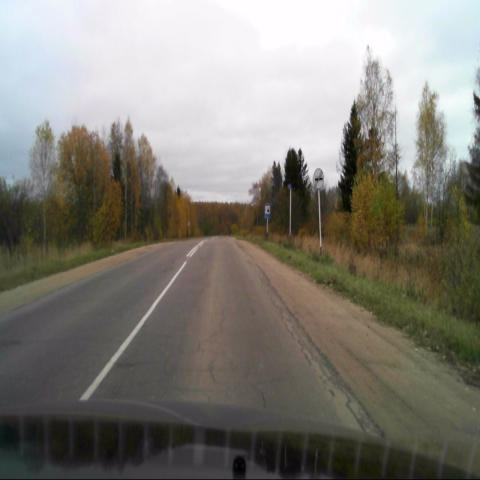3_21: (312, 168, 324, 190)
